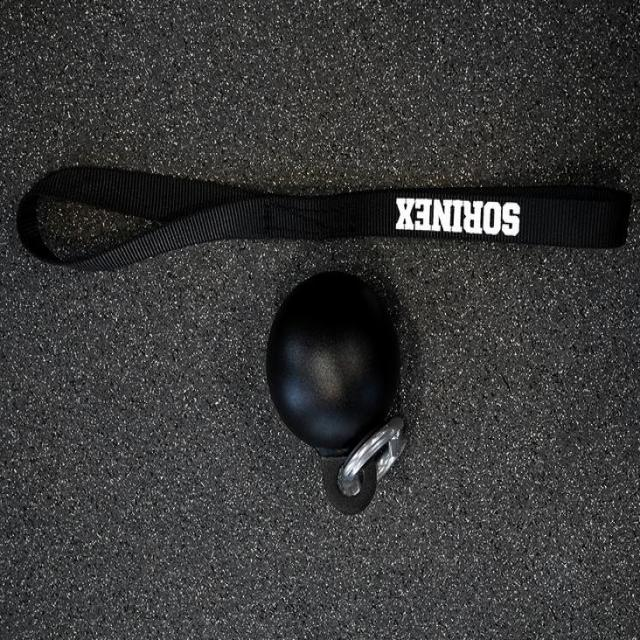grenade: (266, 272, 408, 515)
